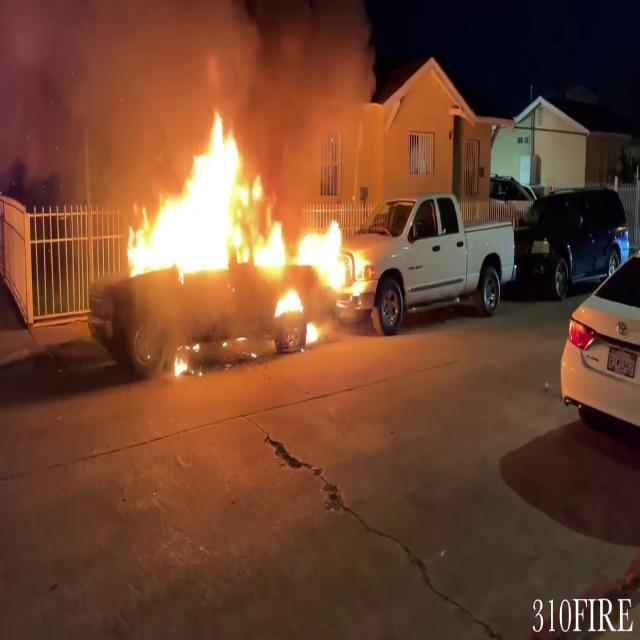Fire: (120, 107, 370, 320)
